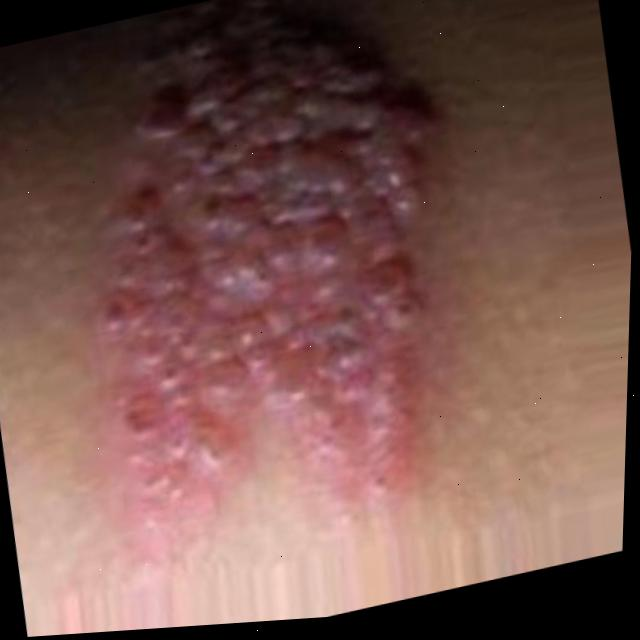Shingles: (71, 0, 459, 567)
